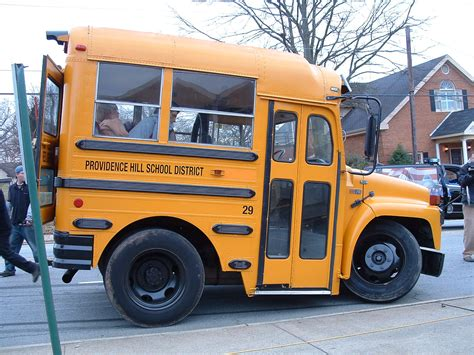bus: (44, 31, 439, 304)
person: (6, 168, 39, 280), (460, 155, 474, 260)
